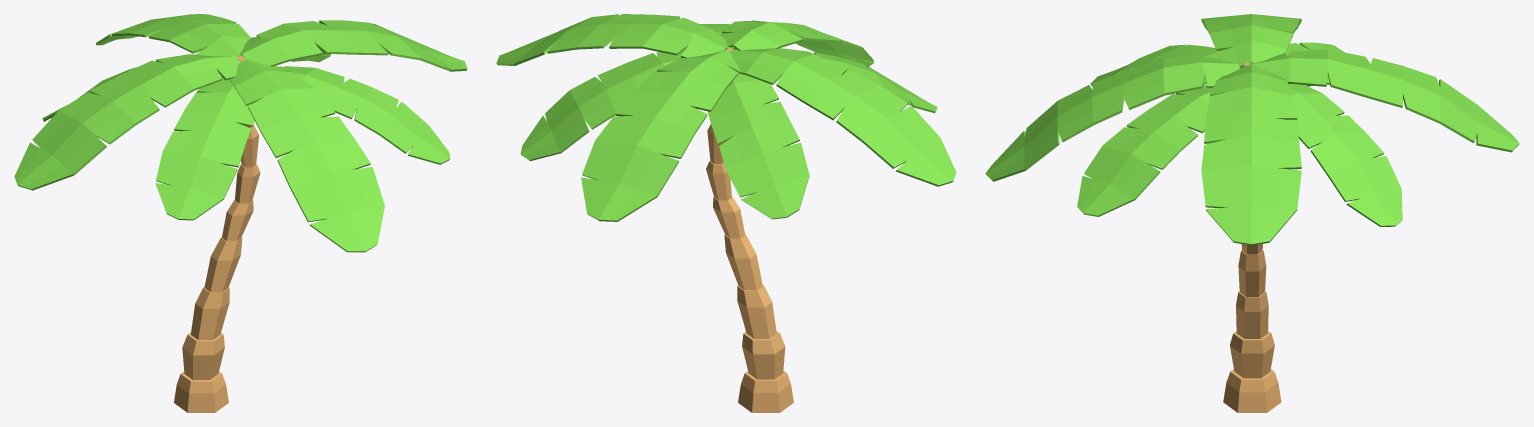
File: palm treee.fbx
3 views of the same model, side by side, from view 1: azimuth 30°, elevation 25°; view 2: azimuth 150°, elevation 25°; view 3: azimuth 270°, elevation 25° (orthographic). The views are drawn at different scales.
Visible parts, largest first — view 1: Cylinder.001, Cylinder; view 2: Cylinder.001, Cylinder; view 3: Cylinder.001, Cylinder.
Boxes of the visible parts, x1,y1,x2,y2 form: Cylinder.001: (14,14,467,252); Cylinder: (174,55,260,412); Cylinder.001: (496,14,956,221); Cylinder: (706,48,793,412); Cylinder.001: (985,14,1519,245); Cylinder: (1223,62,1281,412).
Bounding box in the file's own units: 2093 × 1555 × 2048.
